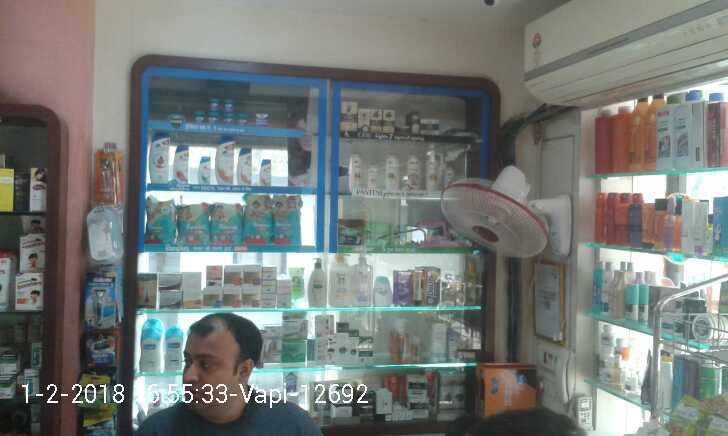beauty: (215, 136, 236, 185), (149, 129, 166, 184), (427, 148, 445, 194), (172, 141, 189, 184), (364, 159, 384, 192), (193, 155, 214, 185), (385, 156, 401, 191), (256, 156, 273, 188), (237, 146, 252, 181), (338, 102, 356, 130), (348, 152, 359, 195), (408, 152, 419, 194), (416, 118, 441, 133), (371, 106, 384, 134), (383, 110, 395, 131)
pharmacy: (209, 198, 243, 250), (273, 194, 305, 249), (242, 195, 273, 247), (177, 203, 211, 247), (143, 199, 174, 244), (338, 220, 366, 245), (250, 107, 274, 130), (218, 95, 237, 111), (191, 105, 203, 125), (222, 108, 235, 124), (203, 112, 215, 126), (236, 112, 249, 124), (207, 98, 217, 108)
